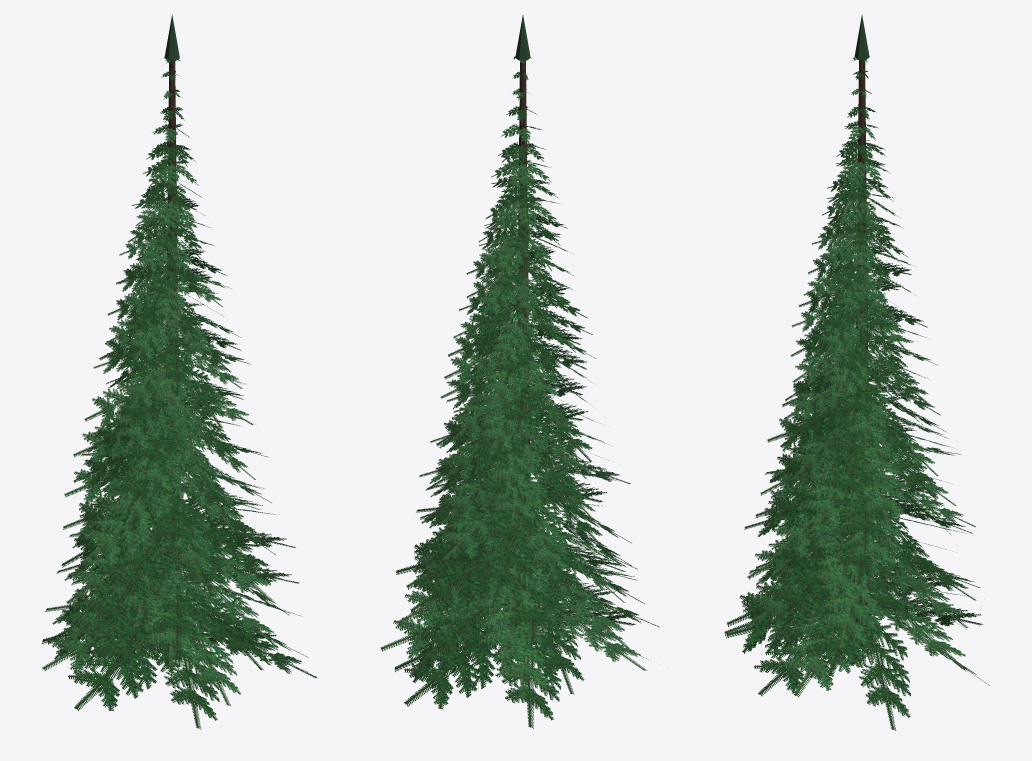
File: spruce_hq_b.glb
3 views of the same model, side by side, from view 1: azimuth 30°, elevation 25°; view 2: azimuth 150°, elevation 25°; view 3: azimuth 270°, elevation 25° (orthographic).
Parts seen in each view (by area): view 1: sprucehq; view 2: sprucehq; view 3: sprucehq.
Part boxes in pixels (x1=…): sprucehq: x1=42, y1=14, x2=316, y2=729; sprucehq: x1=380, y1=15, x2=659, y2=728; sprucehq: x1=724, y1=15, x2=989, y2=730.
Size of the model in its own units: 14.67 by 34.53 by 14.13.
Materials: 4 (3 with a texture image).
